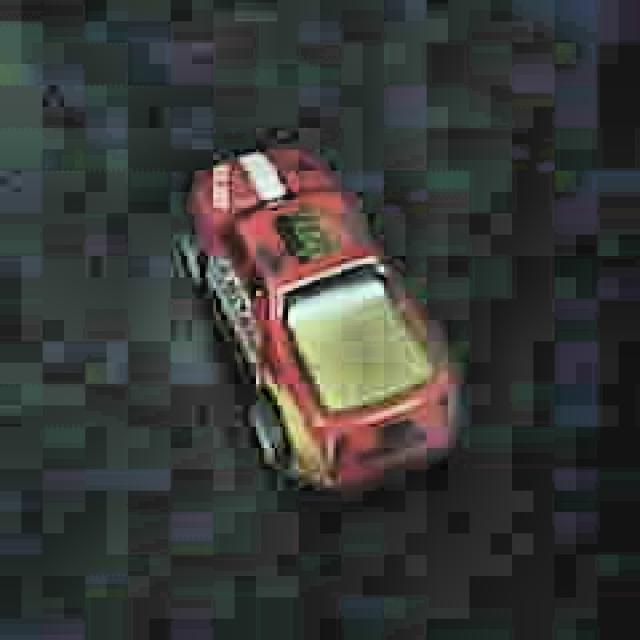car: (168, 125, 470, 502)
